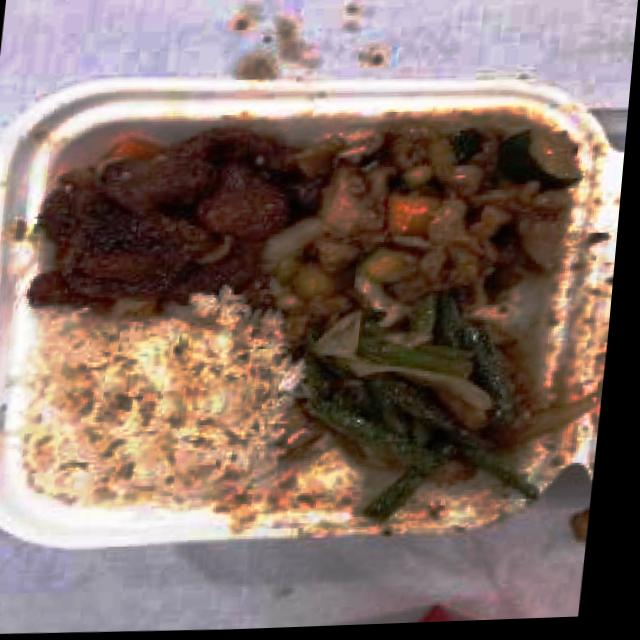Beijing Beef: (35, 119, 286, 313)
Kung Pao Chicken: (303, 111, 588, 304)
String Bean Chicken Breast: (286, 301, 576, 530)
rice: (20, 296, 302, 511)
